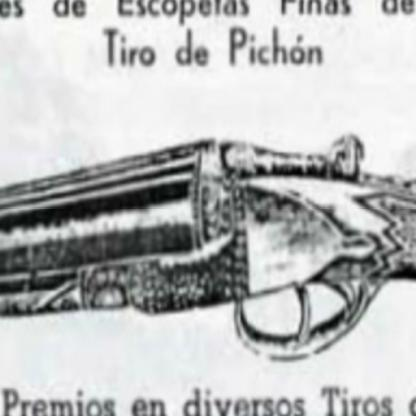gun: (0, 126, 415, 365)
